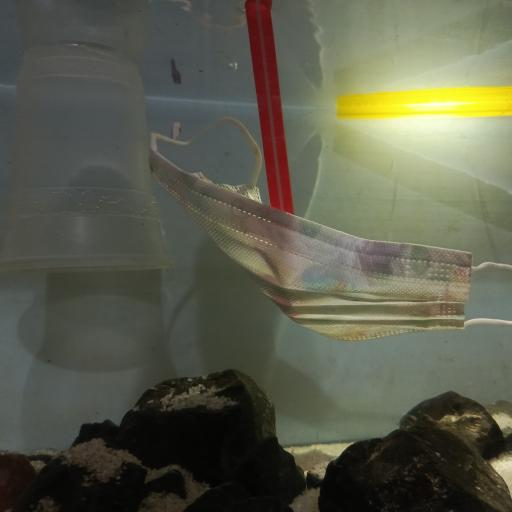mask: (150, 114, 512, 342)
plastic_cup: (0, 42, 184, 273)
plastic_straw: (244, 0, 295, 213), (335, 98, 512, 119)
